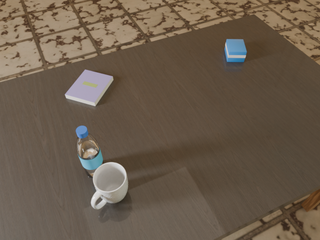book: (65, 70, 113, 106)
bottle: (76, 126, 104, 178)
box: (225, 39, 247, 62)
cup: (91, 162, 128, 209)
